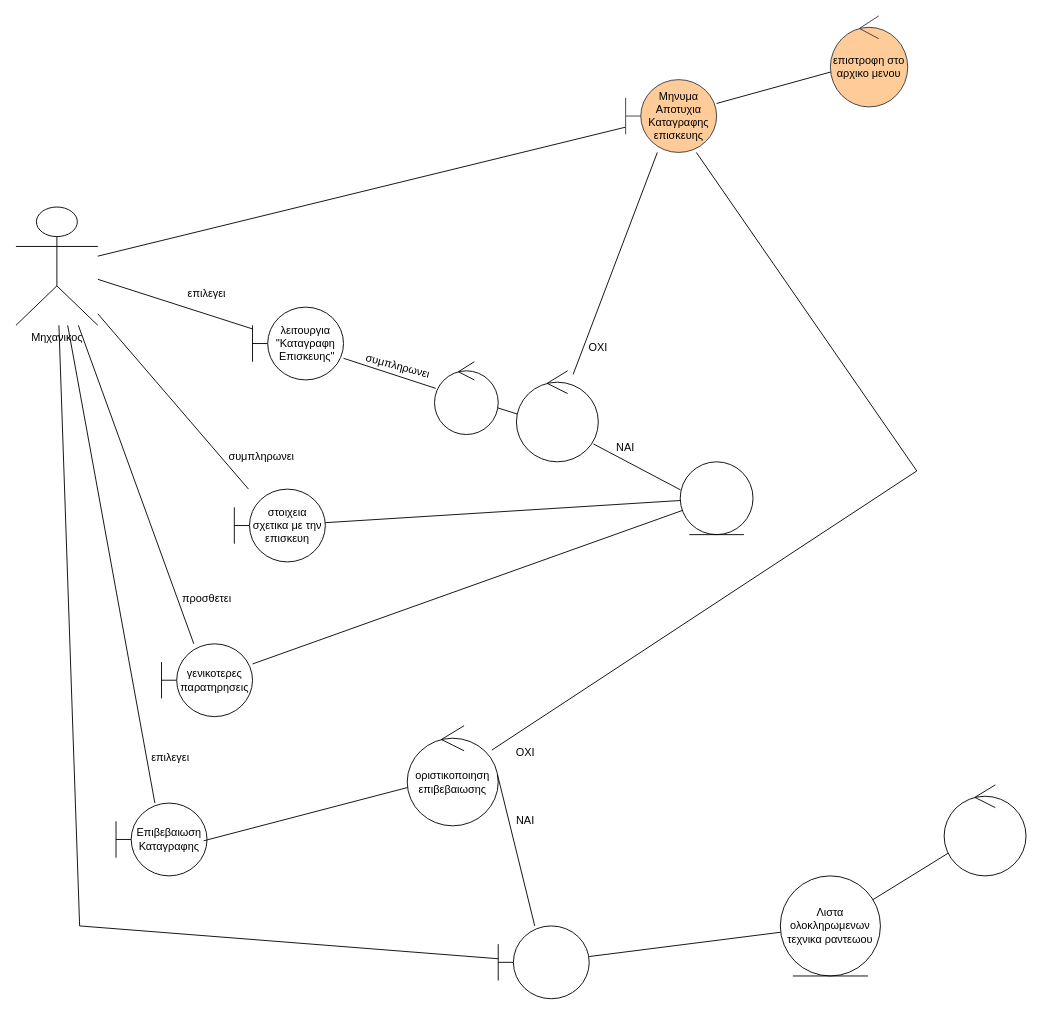
Some shapes in this 1042 by 1015 pixel diagram are drawn without their labels. The shapes that lost their labels are listed below. From the top down, each one's centre as x and y in pixels, then its label:
At [466,398]: "αριθμο σταδιων επισκευης".
At [557,416]: "Ειναι επιτρεπτο?".
At [716,498]: "σταδιο επισκευης".
At [984,830]: "Ενημερωση Διαχειριστη".
At [543,962]: "Μηνυμα Επιτυχους καταγραφης".
